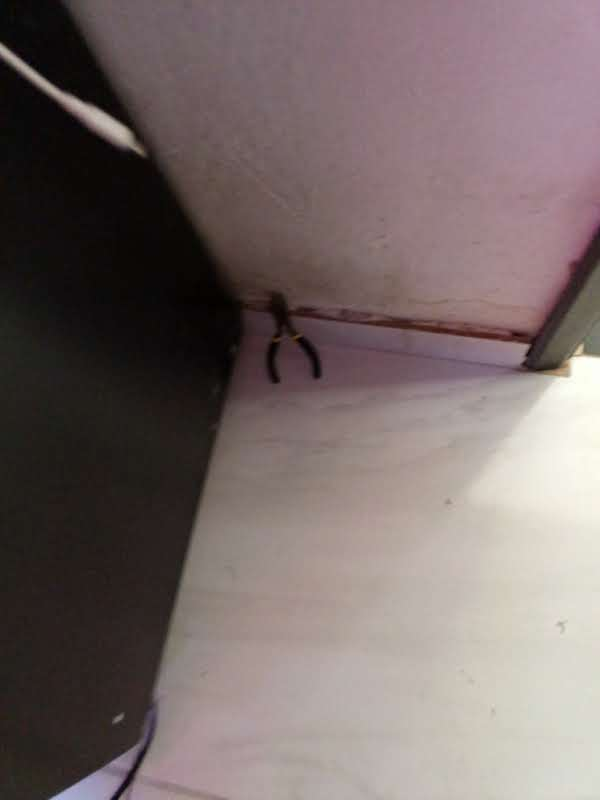Pinzas: (260, 291, 320, 381)
